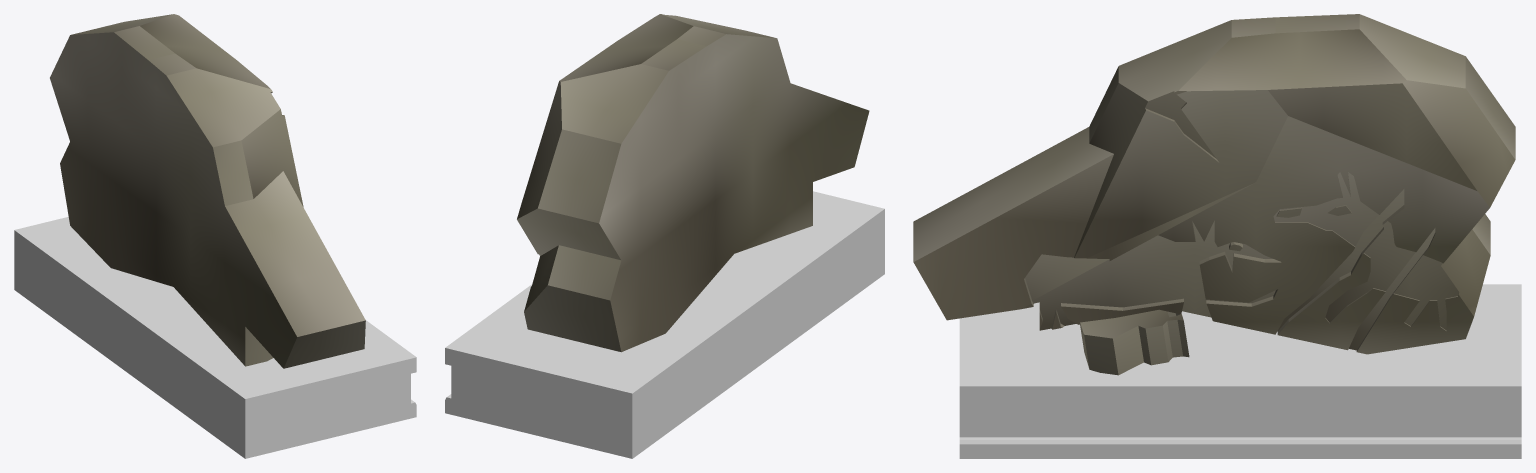
The model's file is TomskWrite.glb.
3 renders of one model, left to right at view 1: azimuth 30°, elevation 25°; view 2: azimuth 150°, elevation 25°; view 3: azimuth 270°, elevation 25°, orthographic. The views are drawn at different scales.
Visible parts, largest first — view 1: Твердое тело1 (×2); view 2: Твердое тело1 (×2); view 3: Твердое тело1 (×3).
Part boxes in pixels (x1,y1,x2,y2): Твердое тело1 (×2): [14, 14, 416, 458]; Твердое тело1 (×2): [445, 14, 884, 458]; Твердое тело1 (×3): [913, 14, 1521, 458].
Size of the model in its own units: 0.006 by 0.00997 by 0.0151.
2 materials, 1 textured.
